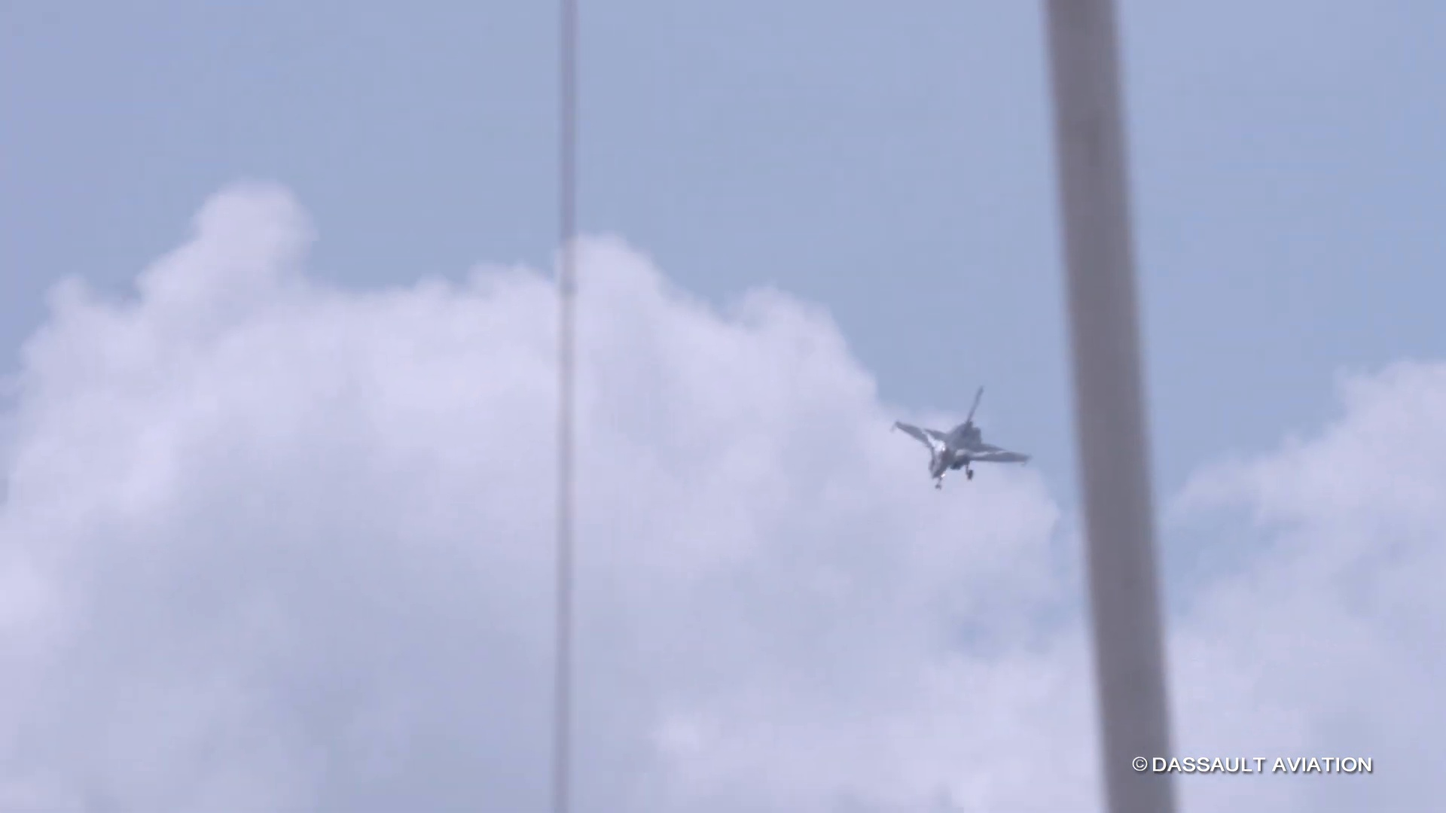Rafale: (881, 375, 1034, 499)
